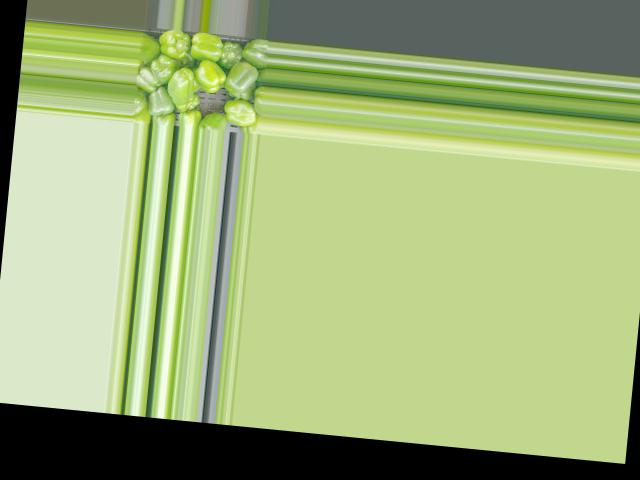bell_pepper: (136, 39, 160, 68)
